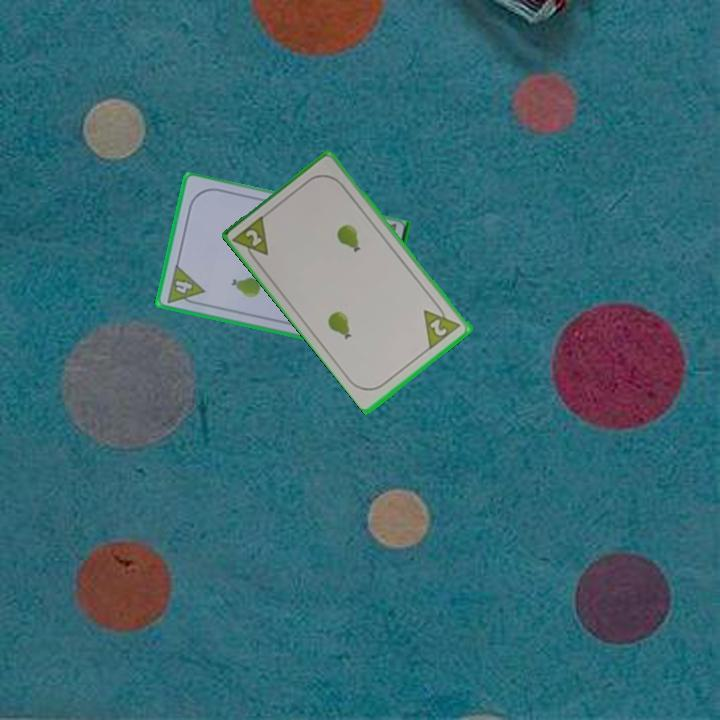2p: (230, 211, 272, 267), (427, 315, 450, 339)
4p: (163, 261, 207, 309)
